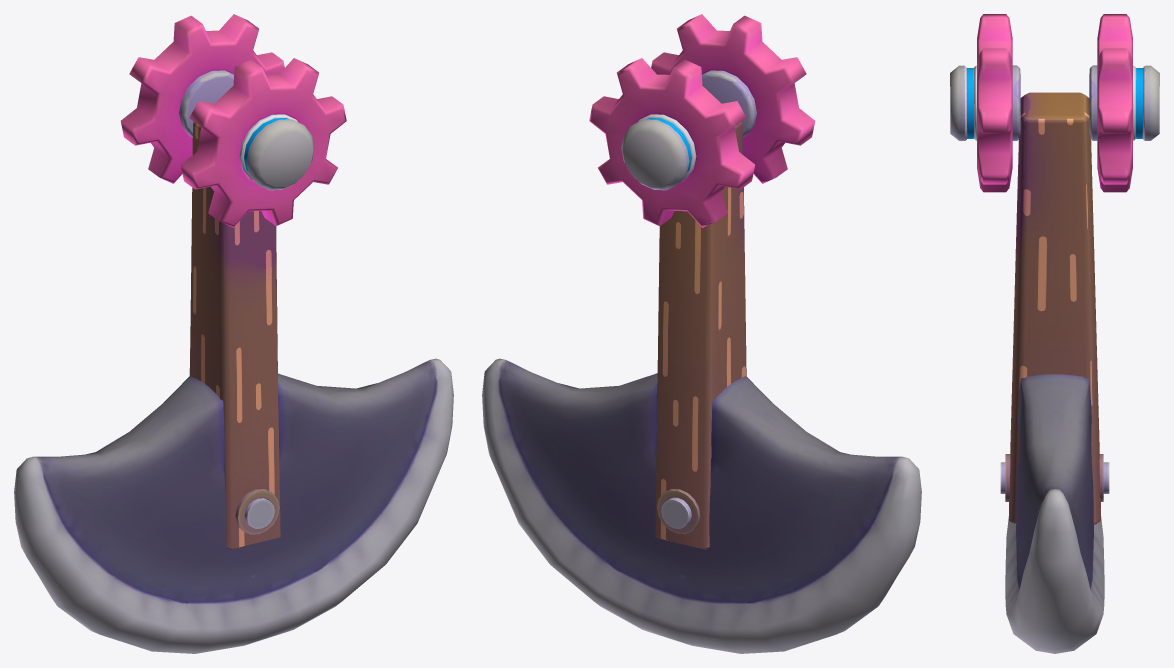
File: HoopsScythe.fbx
The picture shows the model from 3 angles, left to right: view 1: azimuth 30°, elevation 25°; view 2: azimuth 150°, elevation 25°; view 3: azimuth 270°, elevation 25°; orthographic projection.
Visible parts, largest first — view 1: ENV_Scythe_Blade_MO_0, ENV_Scythe_Cog_MO_0; view 2: ENV_Scythe_Blade_MO_0, ENV_Scythe_Cog_MO_0; view 3: ENV_Scythe_Blade_MO_0, ENV_Scythe_Cog_MO_0.
Boxes of the visible parts, x1,y1,x2,y2 form: ENV_Scythe_Blade_MO_0: [14, 122, 453, 653]; ENV_Scythe_Cog_MO_0: [120, 14, 346, 227]; ENV_Scythe_Blade_MO_0: [482, 122, 921, 653]; ENV_Scythe_Cog_MO_0: [589, 14, 815, 227]; ENV_Scythe_Blade_MO_0: [1000, 92, 1109, 653]; ENV_Scythe_Cog_MO_0: [950, 14, 1159, 192].
Bounding box in the file's own units: 20.93 × 27.71 × 8.74.
